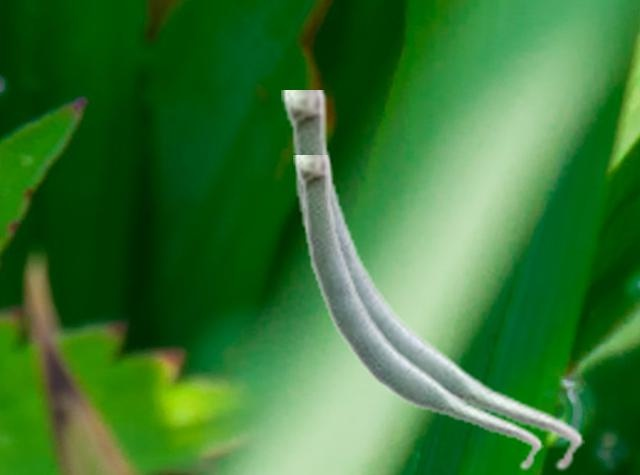french_bean: (281, 90, 583, 472), (293, 155, 542, 471)
